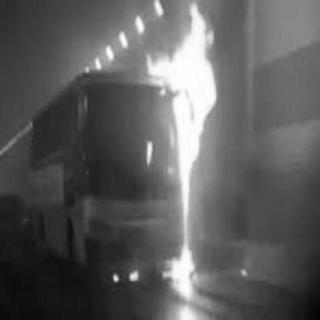Fire: (117, 1, 229, 303)
